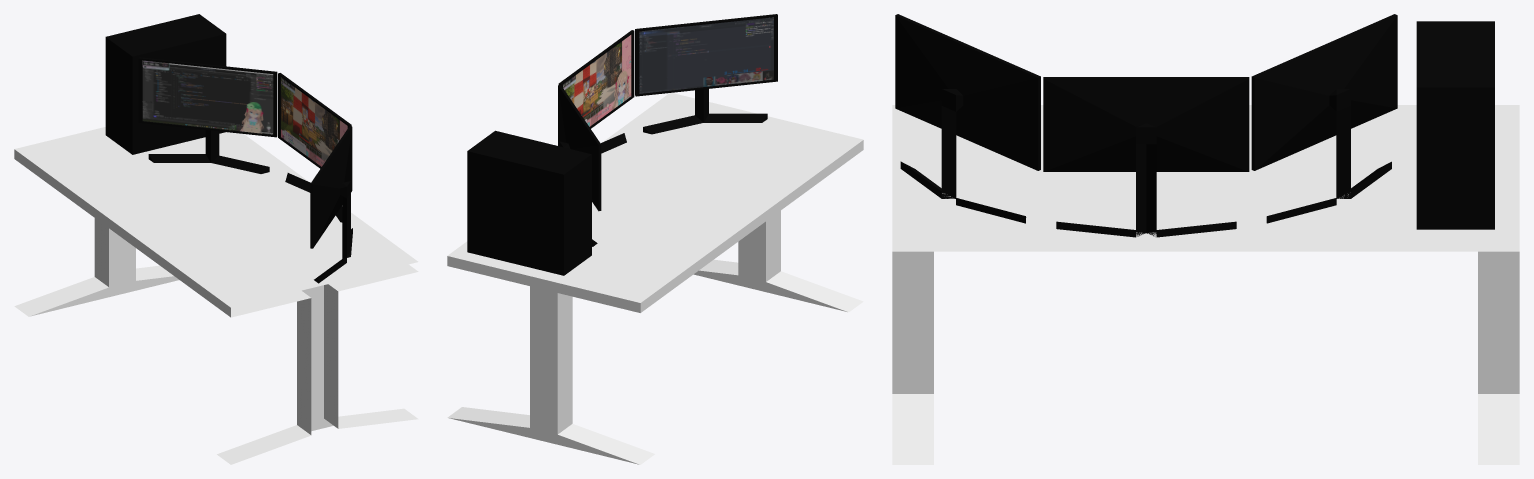
Rendered from desk.gltf.
The picture shows the model from 3 angles, left to right: view 1: azimuth 30°, elevation 25°; view 2: azimuth 150°, elevation 25°; view 3: azimuth 270°, elevation 25°; orthographic projection. The views are drawn at different scales.
Parts seen in each view (by area): view 1: desk; view 2: desk; view 3: desk.
Boxes of the visible parts, x1,y1,x2,y2 form: desk: (14, 14, 418, 464); desk: (447, 14, 863, 464); desk: (892, 14, 1519, 464).
Size of the model in its own units: 1 by 1.32 by 2.
